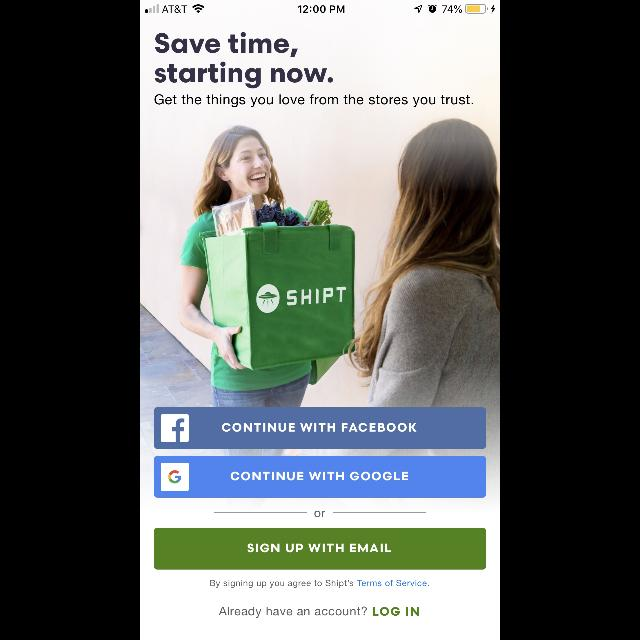backgroundimage: (140, 1, 500, 640)
text: (155, 32, 333, 88), (154, 94, 473, 108), (219, 606, 367, 618), (210, 580, 430, 588), (373, 606, 419, 616), (314, 510, 326, 518)
textbutton: (154, 528, 486, 570), (154, 456, 486, 498), (154, 407, 486, 449)
uppertaskbar: (140, 0, 500, 14)
